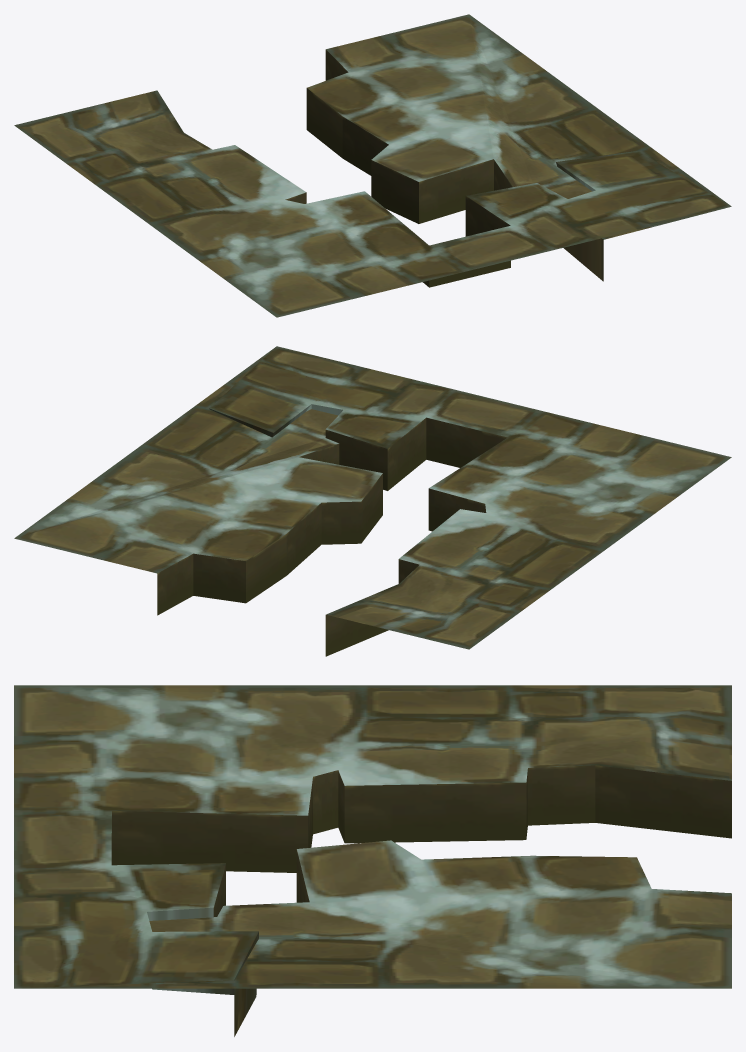
File: tundra_floor_cobble_hole_06.fbx
3 renders of one model, top to bottom at view 1: azimuth 30°, elevation 25°; view 2: azimuth 150°, elevation 25°; view 3: azimuth 270°, elevation 25°, orthographic. The views are drawn at different scales.
Parts seen in each view (by area): view 1: obj0.156; view 2: obj0.156; view 3: obj0.156.
Boxes of the visible parts, <box> form: obj0.156: <box>14,14,731,317</box>; obj0.156: <box>14,346,731,656</box>; obj0.156: <box>14,685,731,1036</box>.
Size of the model in its own units: 4 by 0.4146 by 4.
